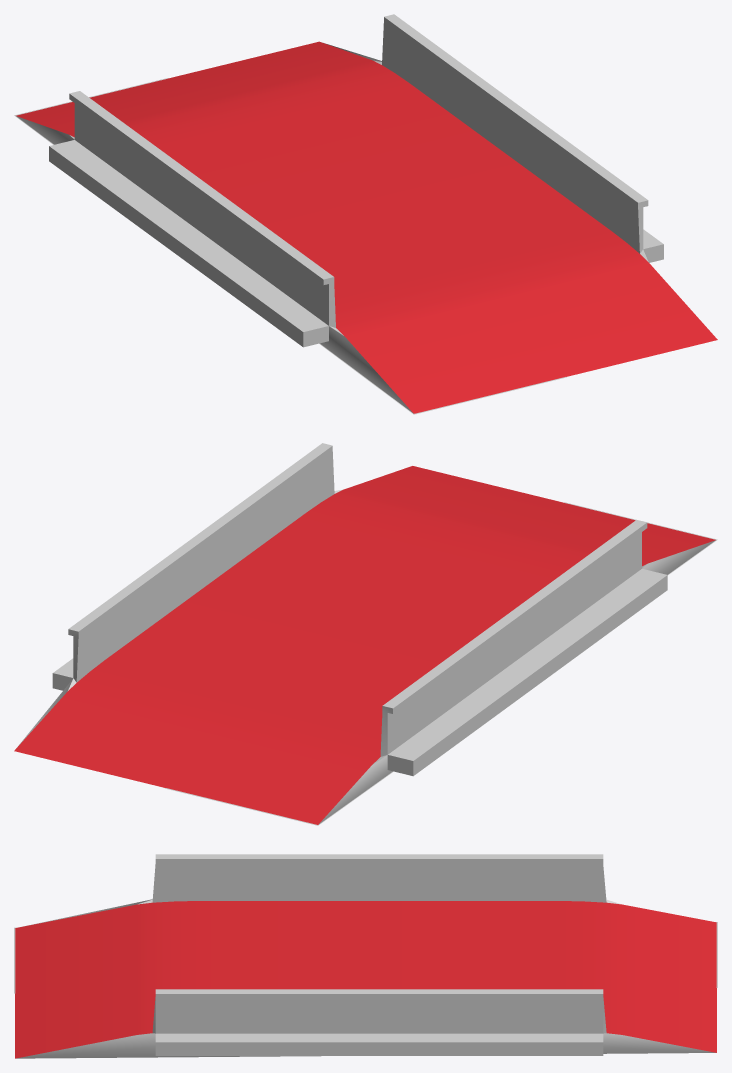
The model's file is Bridge.fbx.
3 renders of one model, top to bottom at view 1: azimuth 30°, elevation 25°; view 2: azimuth 150°, elevation 25°; view 3: azimuth 270°, elevation 25°, orthographic. The views are drawn at different scales.
Parts seen in each view (by area): view 1: Bridge; view 2: Bridge; view 3: Bridge.
Part boxes in pixels (x1=…): Bridge: x1=14, y1=14, x2=717, y2=414; Bridge: x1=14, y1=443, x2=717, y2=825; Bridge: x1=14, y1=854, x2=717, y2=1058.
Size of the model in its own units: 3268 by 682 by 6278.
